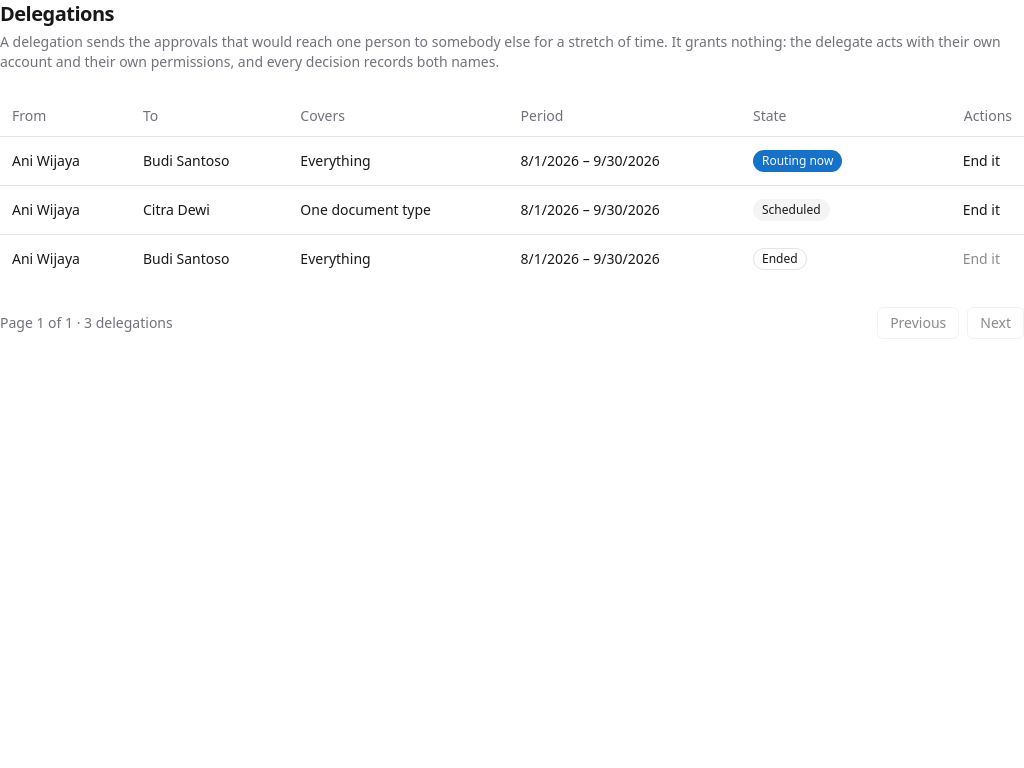
DelegationListPage › keeps the confirmation open and shows the server's words when ending is refused
Click the button with test id "end-delegation-d-1": (981, 160) [951,144,1012,176]
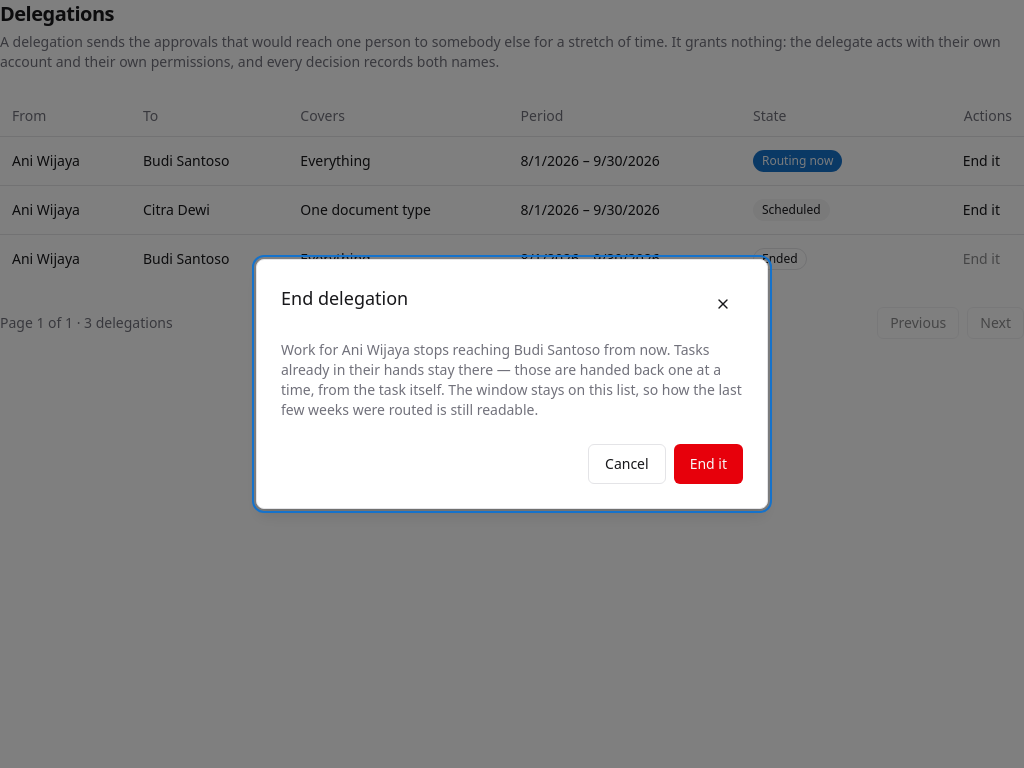
Click the button "End it": (708, 464) [674,444,743,484]
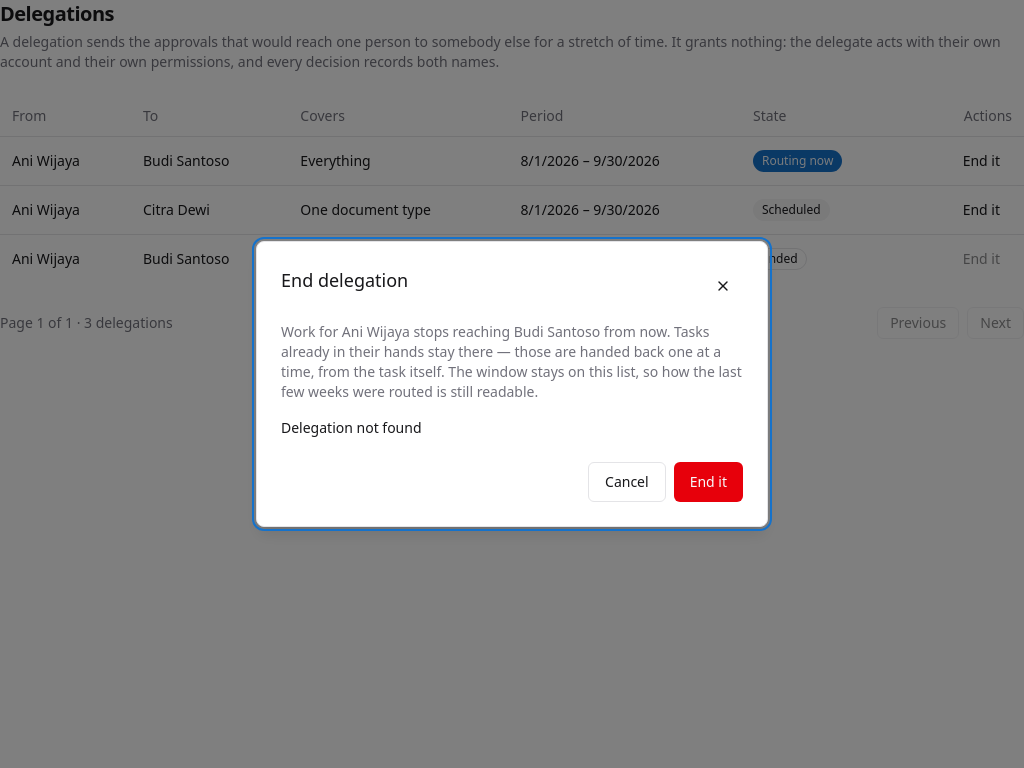
Expected: the dialog is shown, [256,241,768,527]
Expected: the text "Delegation not found" is shown, [281,418,422,437]
